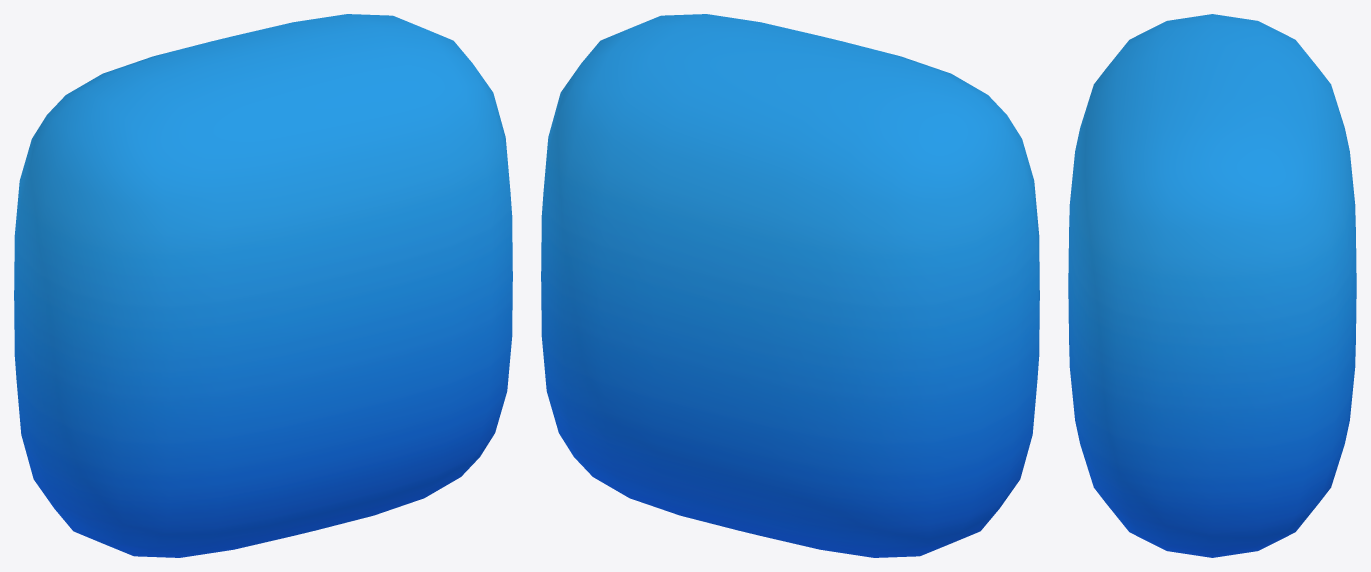
File: Gem_01.glb
3 renders of one model, left to right at view 1: azimuth 30°, elevation 25°; view 2: azimuth 150°, elevation 25°; view 3: azimuth 270°, elevation 25°, orthographic. The views are drawn at different scales.
Parts seen in each view (by area): view 1: Gem_01; view 2: Gem_01; view 3: Gem_01.
Boxes of the visible parts, x1=… form: Gem_01: x1=14, y1=14, x2=512, y2=557; Gem_01: x1=541, y1=14, x2=1039, y2=557; Gem_01: x1=1068, y1=14, x2=1356, y2=557.
Bounding box in the file's own units: 1.17 × 1.17 × 0.7025.
Materials: 1 (1 with a texture image).
